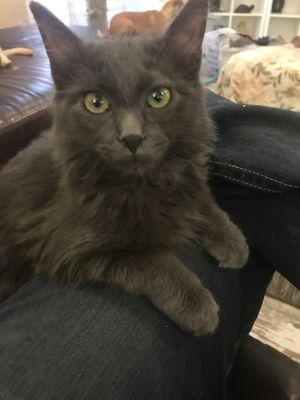rblue: (23, 1, 217, 191)
